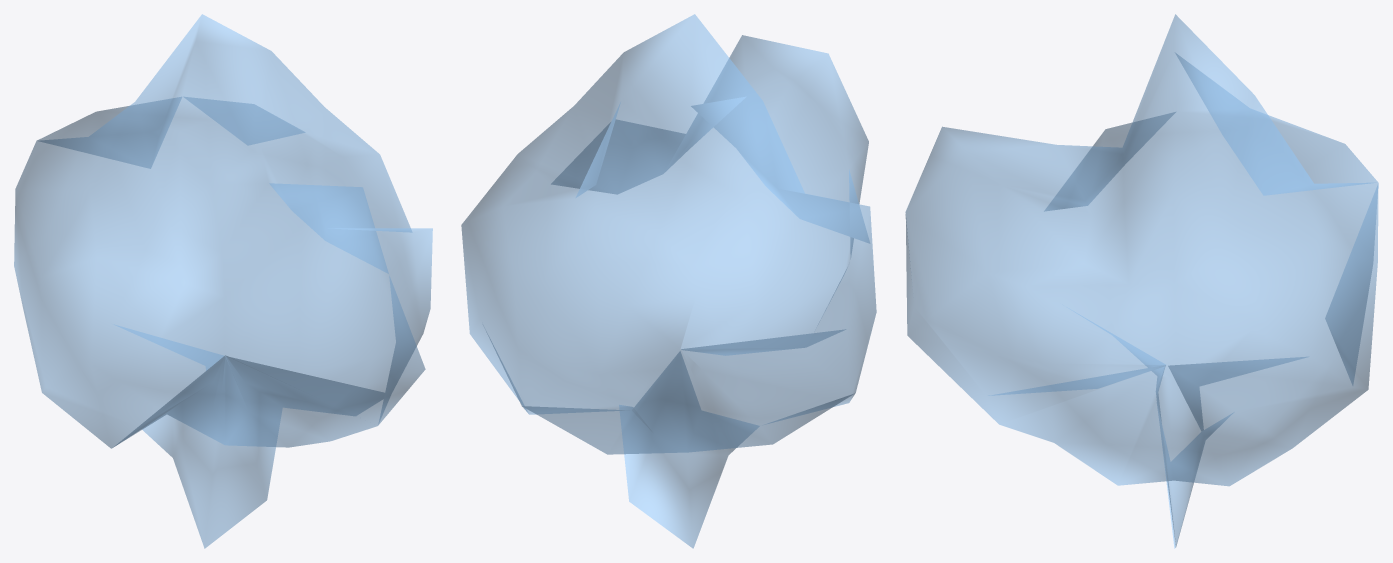
Rendered from tion_shield.gltf.
The picture shows the model from 3 angles, left to right: view 1: azimuth 30°, elevation 25°; view 2: azimuth 150°, elevation 25°; view 3: azimuth 270°, elevation 25°; orthographic projection.
Parts seen in each view (by area): view 1: tion.shield; view 2: tion.shield; view 3: tion.shield.
Boxes of the visible parts, box(x1,y1,x2,y2) form: tion.shield: box(14, 14, 432, 548); tion.shield: box(461, 14, 876, 548); tion.shield: box(905, 14, 1378, 548).
Bounding box in the file's own units: 30.55 × 43.05 × 34.56.
